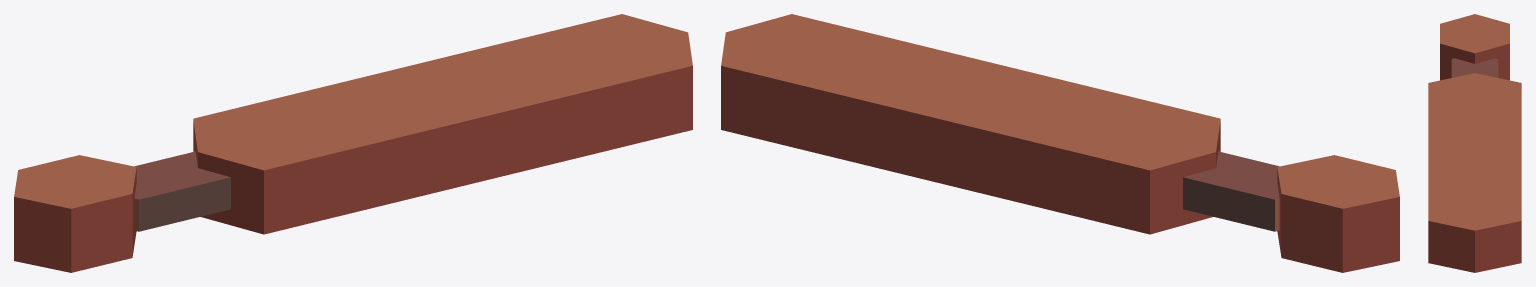
File: Item.gltf
3 views of the same model, side by side, from view 1: azimuth 30°, elevation 25°; view 2: azimuth 150°, elevation 25°; view 3: azimuth 270°, elevation 25° (orthographic). The views are drawn at different scales.
Visible parts, largest first — view 1: cylinder; view 2: cylinder; view 3: cylinder.
Part boxes in pixels (bbox=[...]): cylinder: bbox=[14, 14, 692, 272]; cylinder: bbox=[721, 14, 1399, 272]; cylinder: bbox=[1428, 14, 1521, 272].
Size of the model in its own units: 0.6875 by 0.0625 by 0.125.
Materials: 1 (1 with a texture image).
